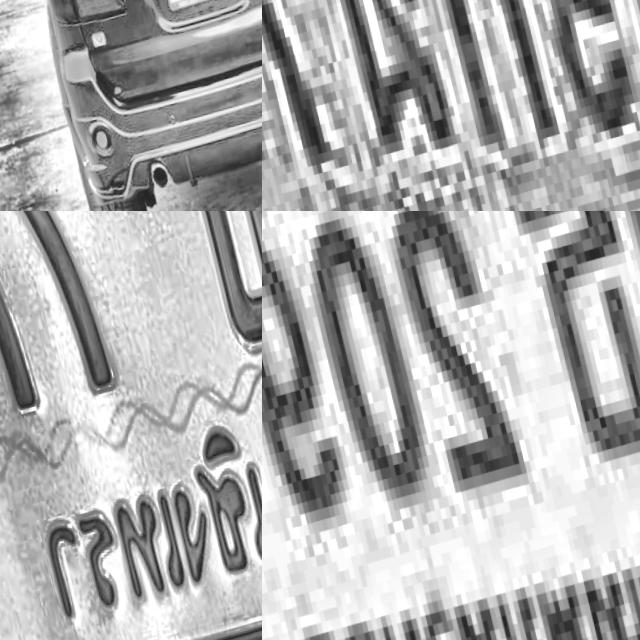license-plate: (262, 211, 640, 640), (0, 211, 262, 640), (262, 0, 640, 211), (151, 0, 233, 20)
